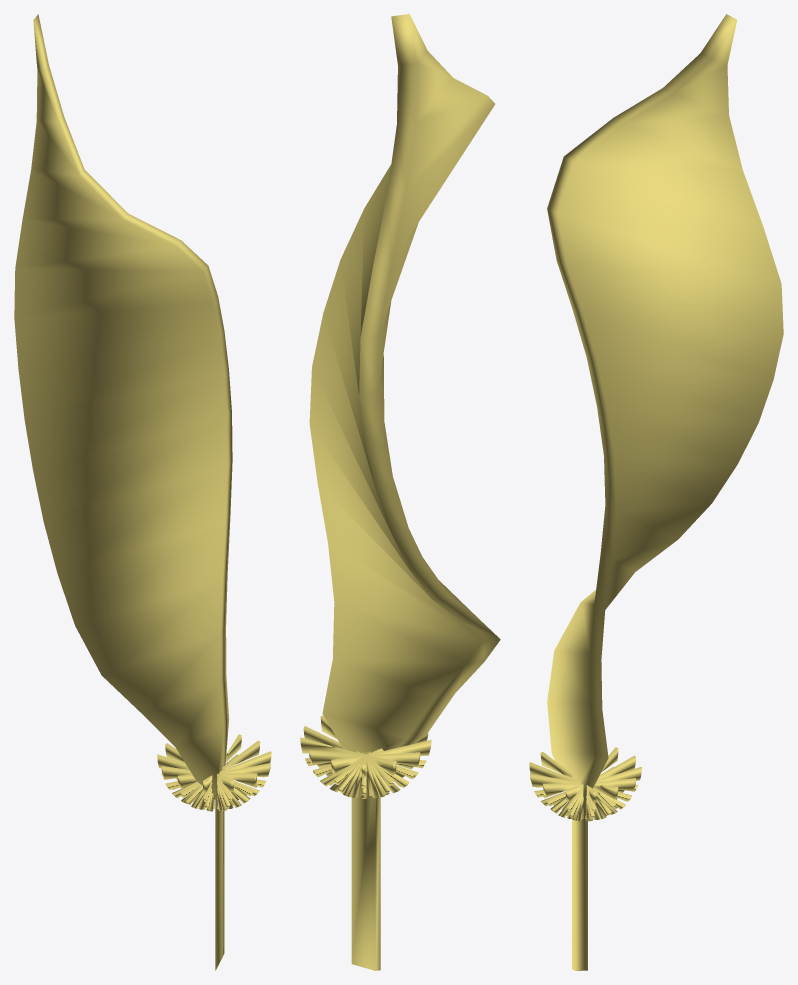
File: 風切りの羽根.fbx
The picture shows the model from 3 angles, left to right: view 1: azimuth 30°, elevation 25°; view 2: azimuth 150°, elevation 25°; view 3: azimuth 270°, elevation 25°; orthographic projection. The views are drawn at different scales.
Visible parts, largest first — view 1: 平面, 平面.001; view 2: 平面, 平面.001; view 3: 平面, 平面.001.
Part boxes in pixels (x1,y1,x2,y2): 平面: (14,14,232,970); 平面.001: (157,734,271,811); 平面: (309,14,500,970); 平面.001: (300,715,431,798); 平面: (547,14,783,970); 平面.001: (529,747,641,821).
Bounding box in the file's own units: 285 × 1471 × 375.
